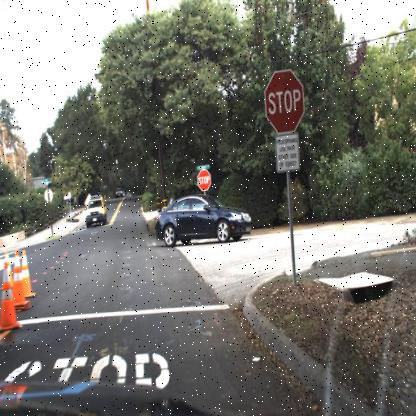car: (148, 185, 259, 252), (83, 196, 106, 228), (114, 184, 123, 198)
